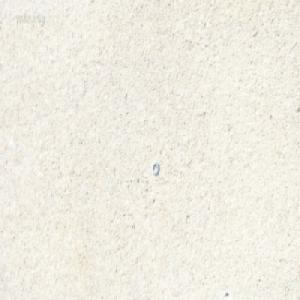Washer: (151, 160, 159, 175)
